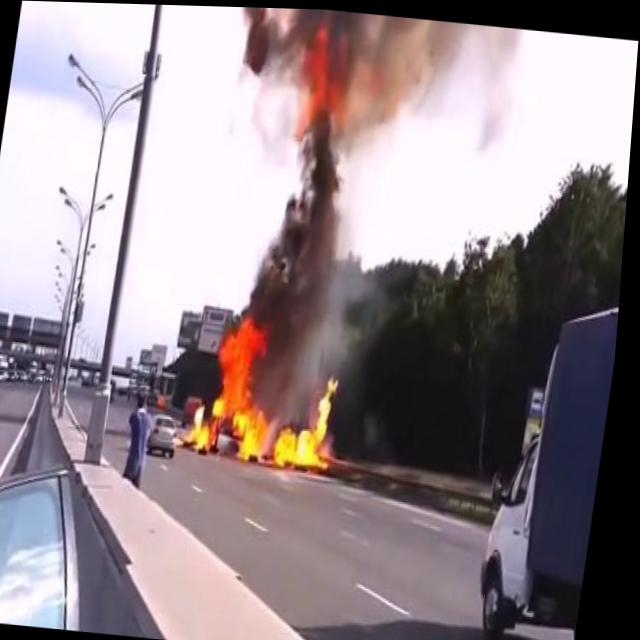fire: (184, 301, 361, 479), (283, 16, 365, 142)
